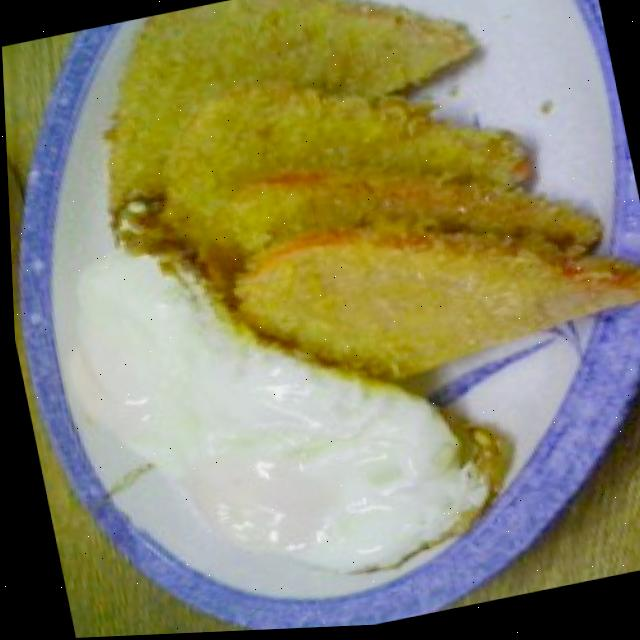鸡蛋料理: (22, 189, 498, 638)
